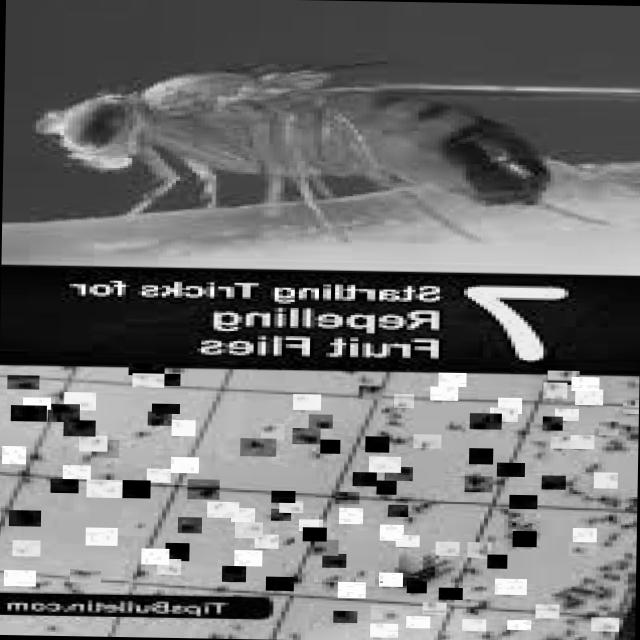fruit fly: (85, 478, 122, 498), (240, 438, 276, 457), (186, 478, 218, 499), (10, 405, 46, 422), (118, 479, 150, 498), (63, 392, 95, 411), (47, 403, 79, 422), (85, 527, 116, 546), (494, 578, 526, 596), (469, 413, 502, 430), (3, 570, 36, 587), (8, 510, 41, 527), (206, 501, 238, 518), (62, 420, 94, 437), (369, 604, 402, 620), (368, 456, 400, 472), (90, 440, 118, 458), (546, 370, 578, 385), (132, 373, 164, 388), (68, 569, 100, 584), (7, 375, 39, 390), (128, 363, 164, 376), (574, 389, 602, 405), (338, 582, 366, 598), (310, 540, 338, 556), (464, 476, 492, 492), (292, 394, 320, 410), (292, 428, 320, 444), (234, 522, 262, 538), (234, 550, 262, 566), (141, 548, 169, 564), (78, 435, 106, 451), (118, 520, 146, 536), (12, 540, 40, 556), (165, 543, 189, 561), (2, 446, 26, 464), (430, 386, 458, 401), (496, 462, 524, 477), (384, 466, 412, 481), (170, 457, 198, 472), (49, 478, 78, 492), (438, 373, 466, 387), (570, 377, 598, 391), (490, 408, 518, 422), (568, 542, 596, 556), (369, 623, 397, 637), (412, 434, 440, 448), (266, 577, 294, 591), (152, 372, 180, 386), (62, 465, 90, 479), (590, 617, 618, 631), (508, 494, 536, 508), (542, 382, 566, 398), (468, 448, 492, 464), (498, 398, 522, 414), (594, 472, 618, 488), (572, 528, 596, 544), (512, 531, 536, 547), (467, 542, 491, 558), (379, 525, 403, 541), (338, 508, 362, 524), (270, 533, 294, 549), (364, 436, 388, 452), (221, 566, 245, 582), (178, 518, 202, 534), (171, 420, 195, 436), (157, 559, 180, 575), (260, 424, 284, 439), (462, 586, 487, 600), (570, 435, 594, 449), (540, 475, 564, 489), (534, 604, 558, 618), (378, 573, 402, 587), (435, 542, 459, 556), (322, 554, 346, 568), (302, 528, 326, 542), (254, 534, 278, 548), (357, 386, 381, 400), (352, 472, 376, 486), (308, 414, 332, 428), (230, 508, 254, 522), (146, 468, 170, 482), (148, 412, 172, 426), (22, 398, 50, 410), (354, 570, 374, 586), (156, 364, 188, 374), (542, 416, 562, 431), (554, 409, 578, 421), (550, 436, 574, 448), (438, 588, 462, 600), (422, 602, 446, 614), (405, 616, 429, 628), (333, 610, 357, 622), (394, 535, 418, 547), (298, 520, 322, 532), (278, 500, 302, 512), (271, 490, 295, 502), (335, 492, 359, 504), (462, 618, 486, 630), (598, 422, 618, 436), (487, 554, 507, 568), (376, 480, 396, 494), (393, 394, 413, 408), (320, 439, 340, 453), (152, 404, 180, 414), (506, 620, 530, 630), (406, 581, 426, 593), (403, 510, 423, 522), (387, 504, 407, 516), (270, 508, 290, 520), (622, 400, 638, 414)
